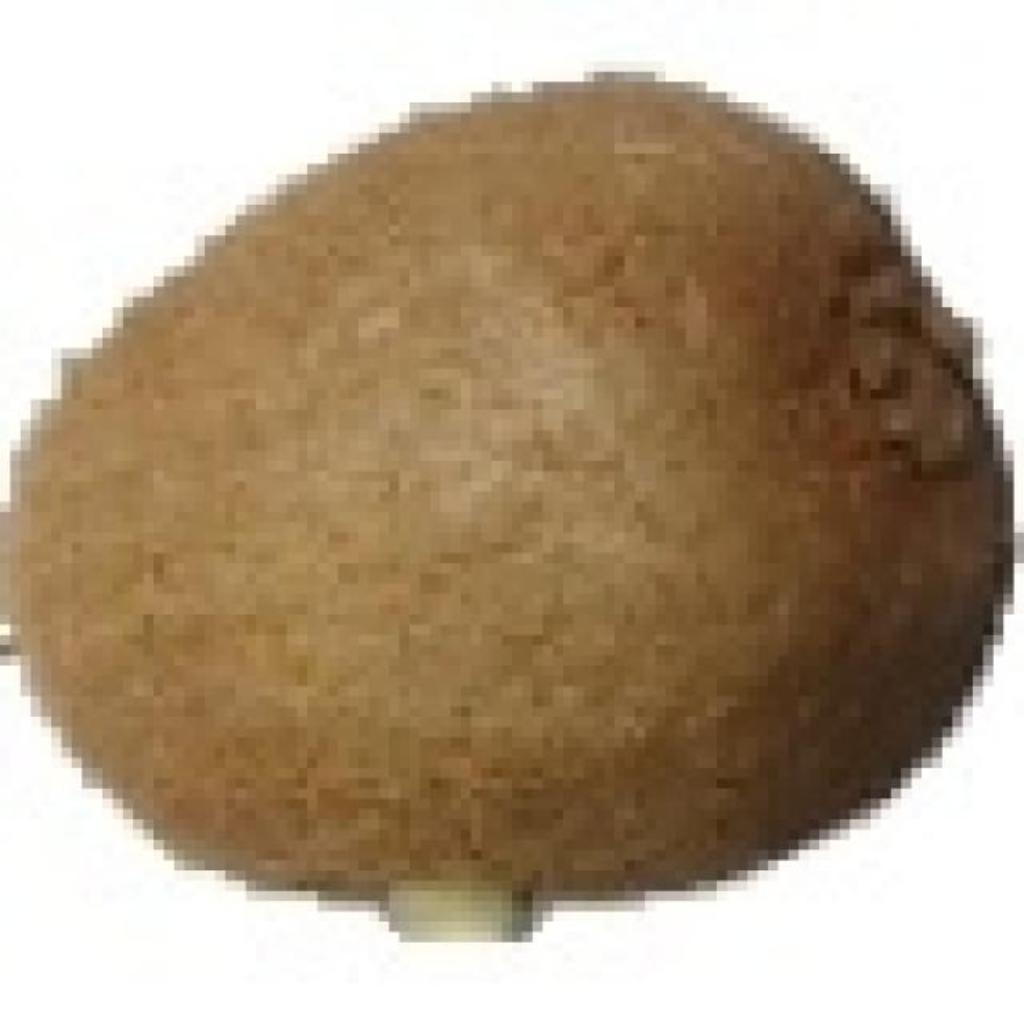kiwi: (10, 61, 993, 911)
